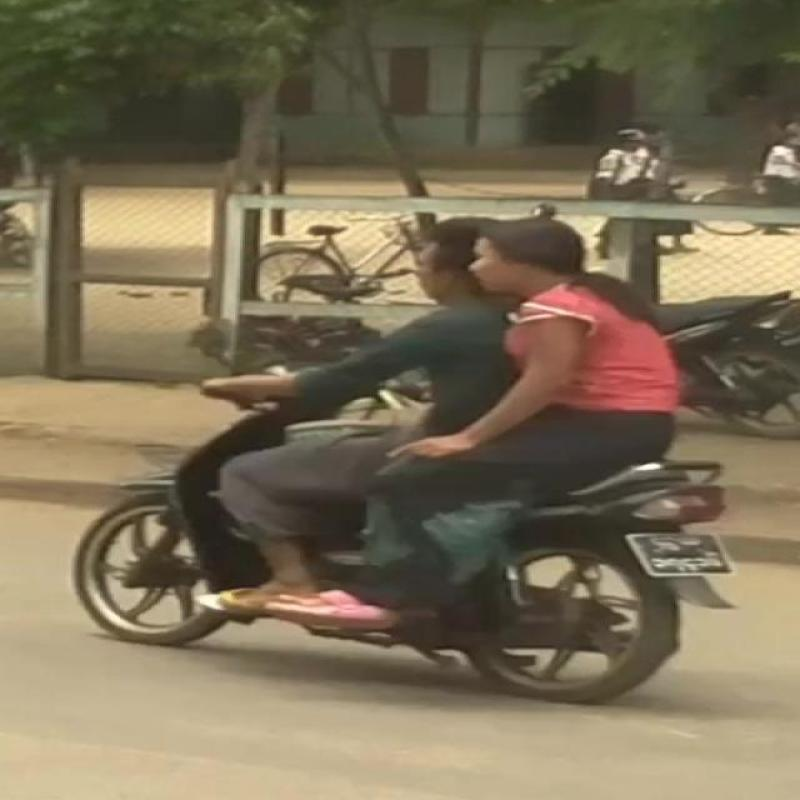nohelmet: (469, 202, 600, 314)
